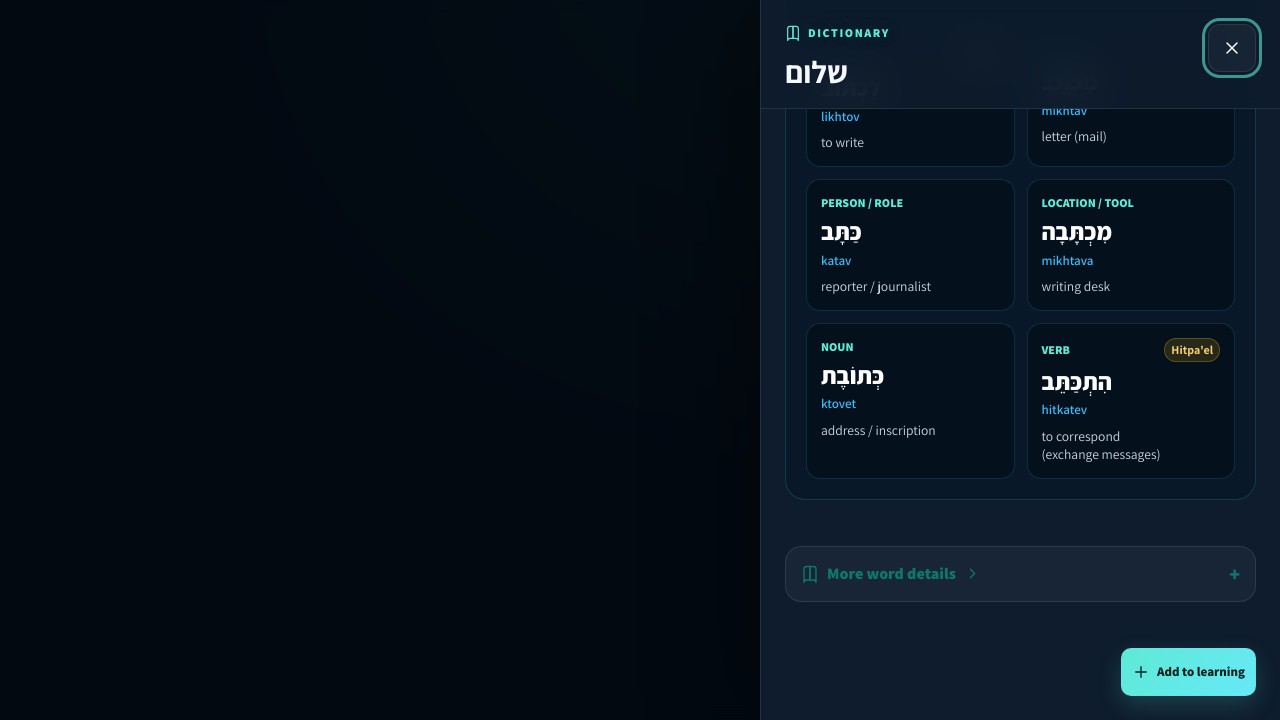
Test: DictionaryDrawer › keeps newly learned state scoped to the selected dictionary entry
(page scrolled)
What coordinates should you click on to do the following:
click the button "Add to learning"
I would click on:
 (1188, 672)
Its box is 1121,648 -> 1256,696.
(page scrolled)
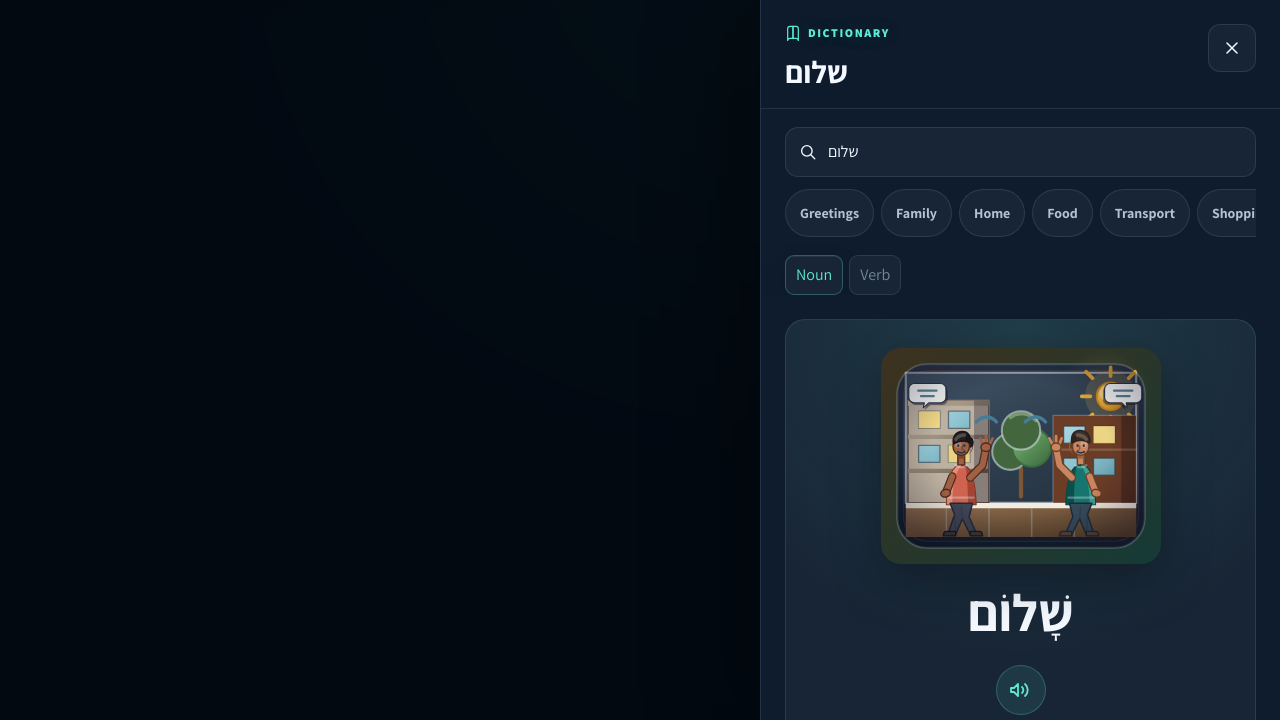
What coordinates should you click on to do the following:
click the tab "Verb"
I would click on:
 (875, 275)
Its box is 849,255 -> 901,295.
(page scrolled)
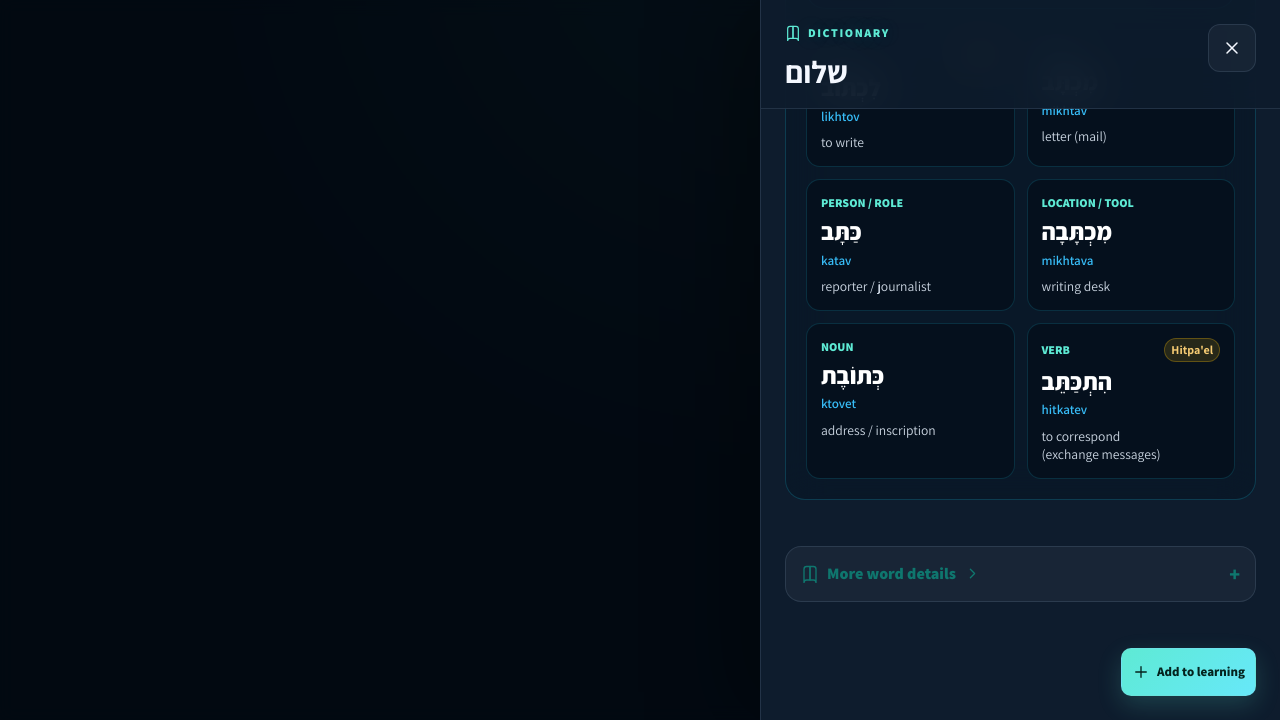
Result: the button "Add to learning" is enabled at 1121,648 -> 1256,696
